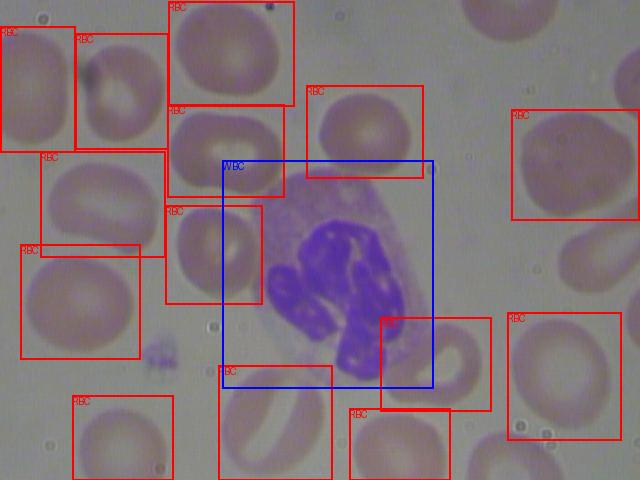RBC: (507, 312, 621, 440), (511, 109, 639, 220), (20, 244, 140, 359), (40, 151, 165, 257), (168, 1, 294, 106), (218, 365, 332, 480), (167, 104, 284, 197), (306, 85, 423, 178), (75, 33, 168, 149), (380, 317, 491, 411), (165, 205, 262, 304), (0, 26, 75, 152), (72, 395, 173, 480), (349, 408, 450, 480)
WBC: (222, 160, 433, 388)
